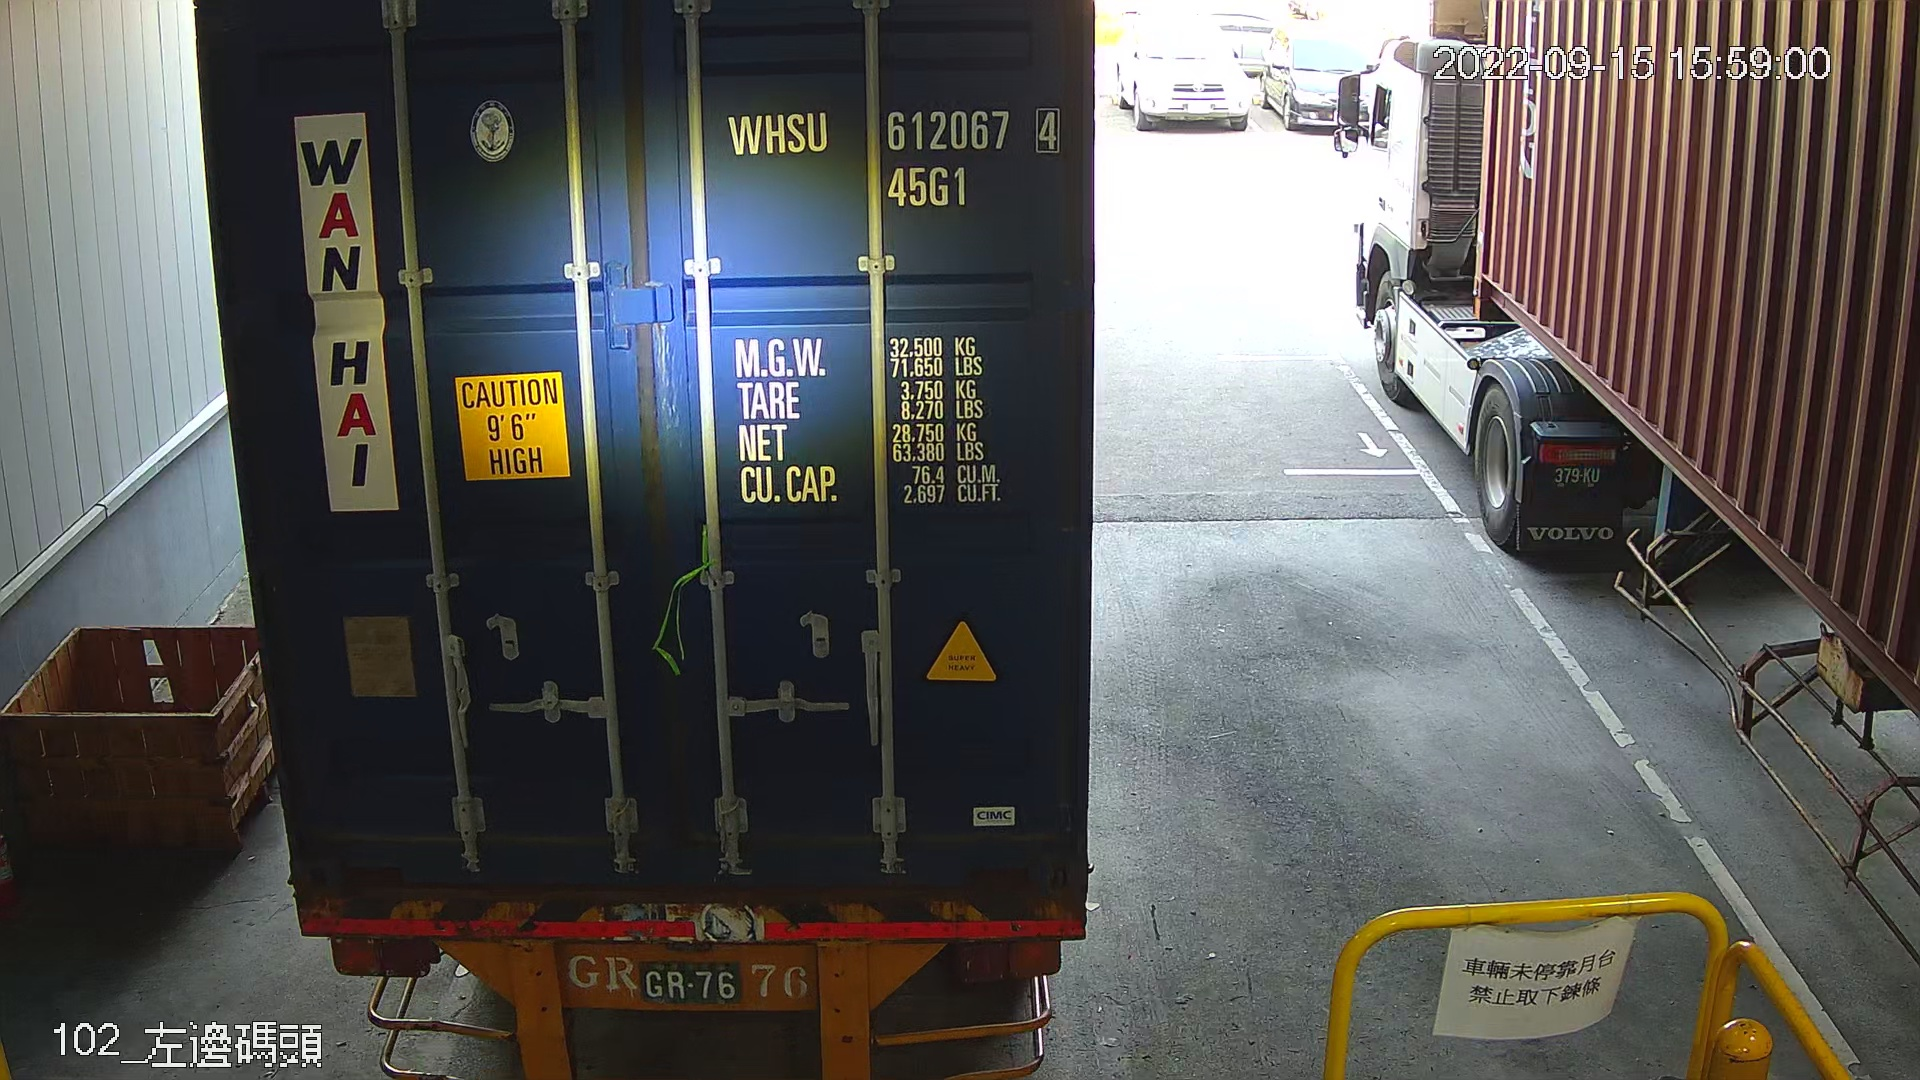container: (712, 92, 1075, 220)
